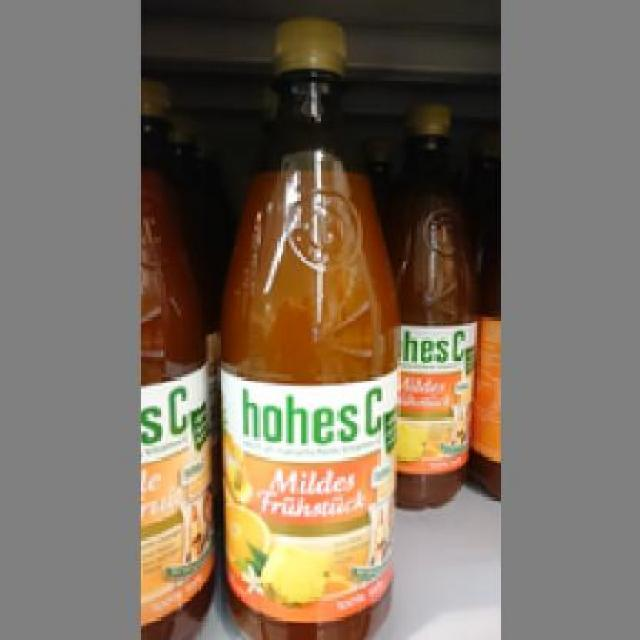Juice: (214, 17, 397, 637), (388, 97, 474, 506)
